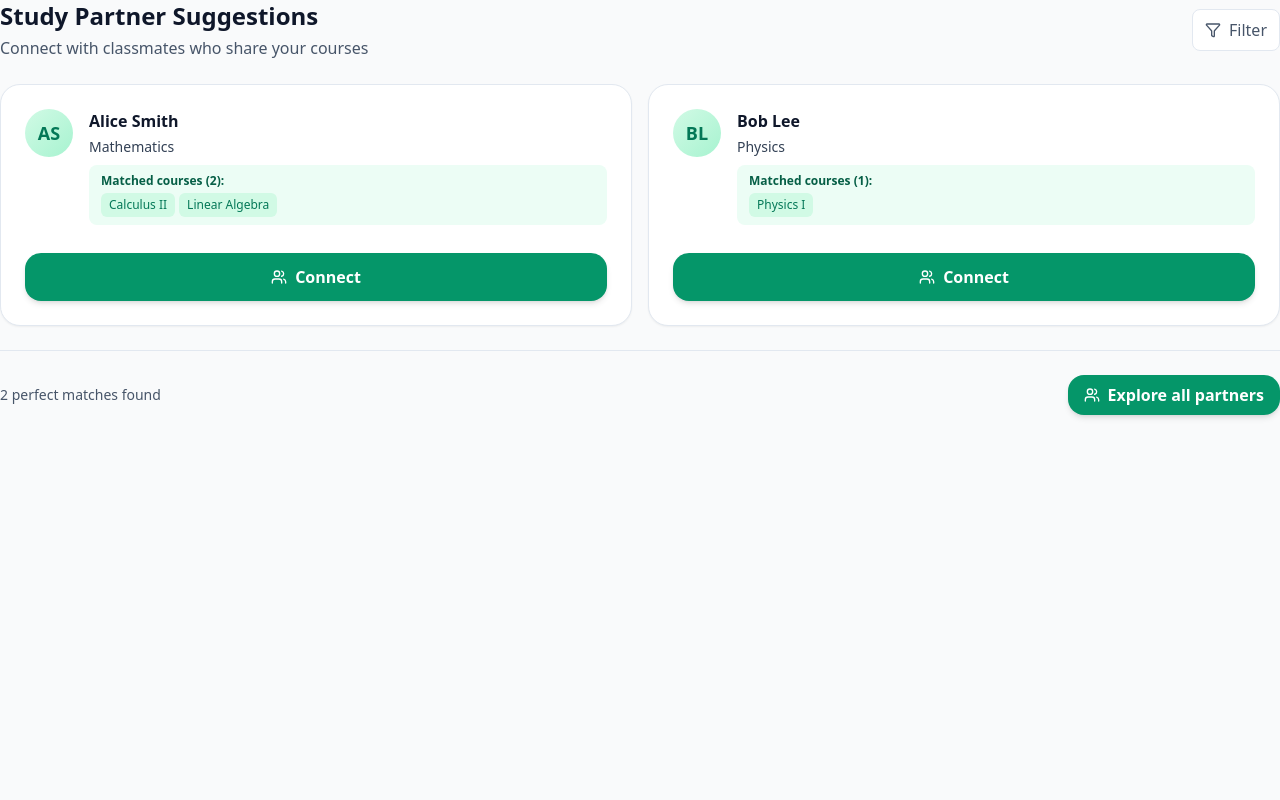
Test case: BuddySearch › handles invite send error
The width and height of the screenshot is (1280, 800).
Expected: the heading "Alice Smith" is shown, [89,110,178,132]
Click the button "Connect" below "Alice Smith" at [316, 277], box [25,253,607,301]
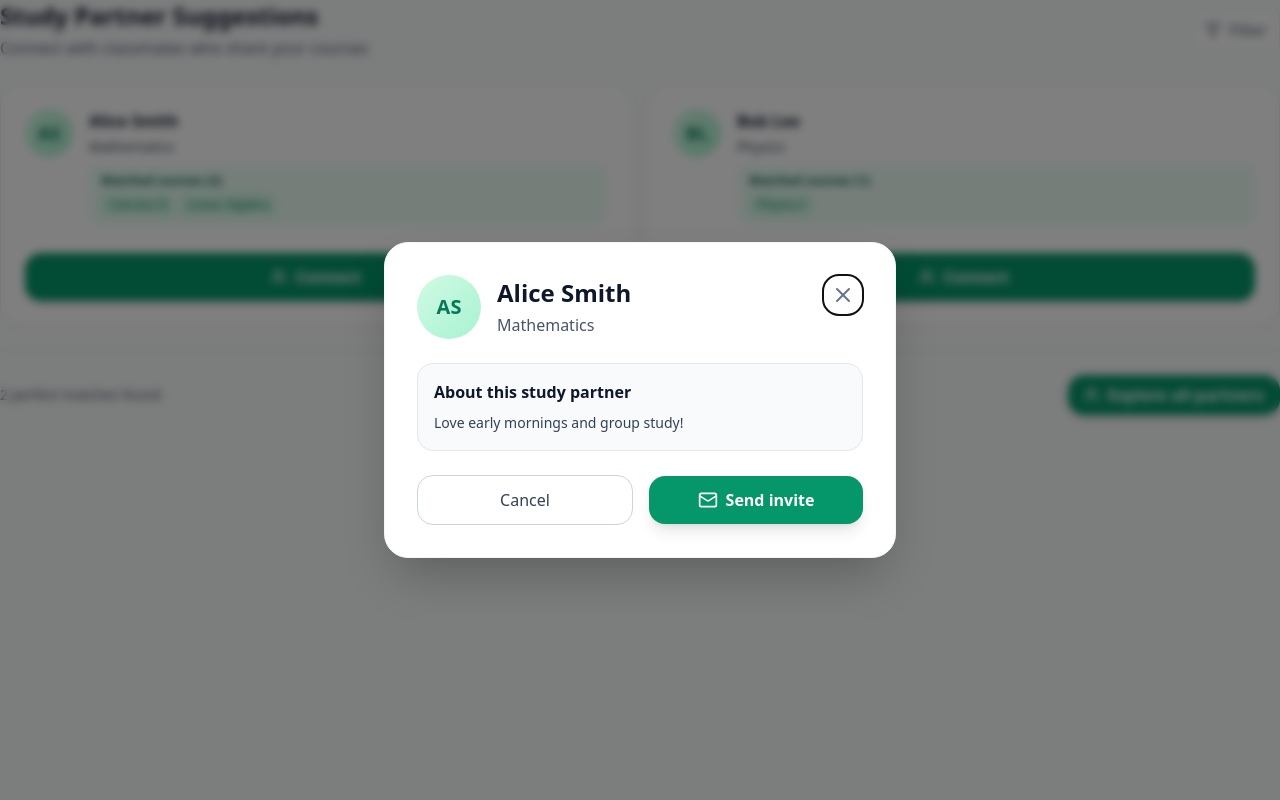
Try to send invite (should fail)
Click the button "Send invite" at [756, 500], box [649,476,863,524]
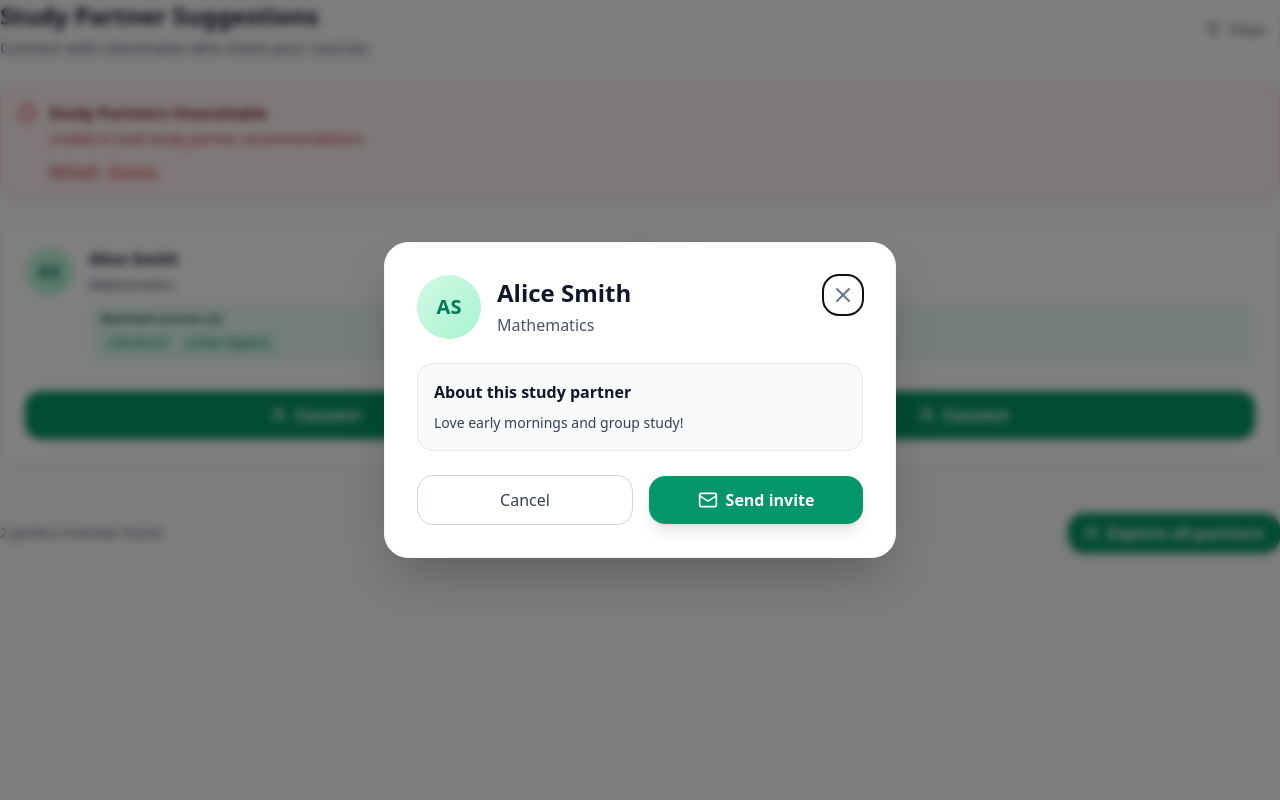
Expected: the heading "Study Partners Unavailable" is shown, [49,102,267,124]
